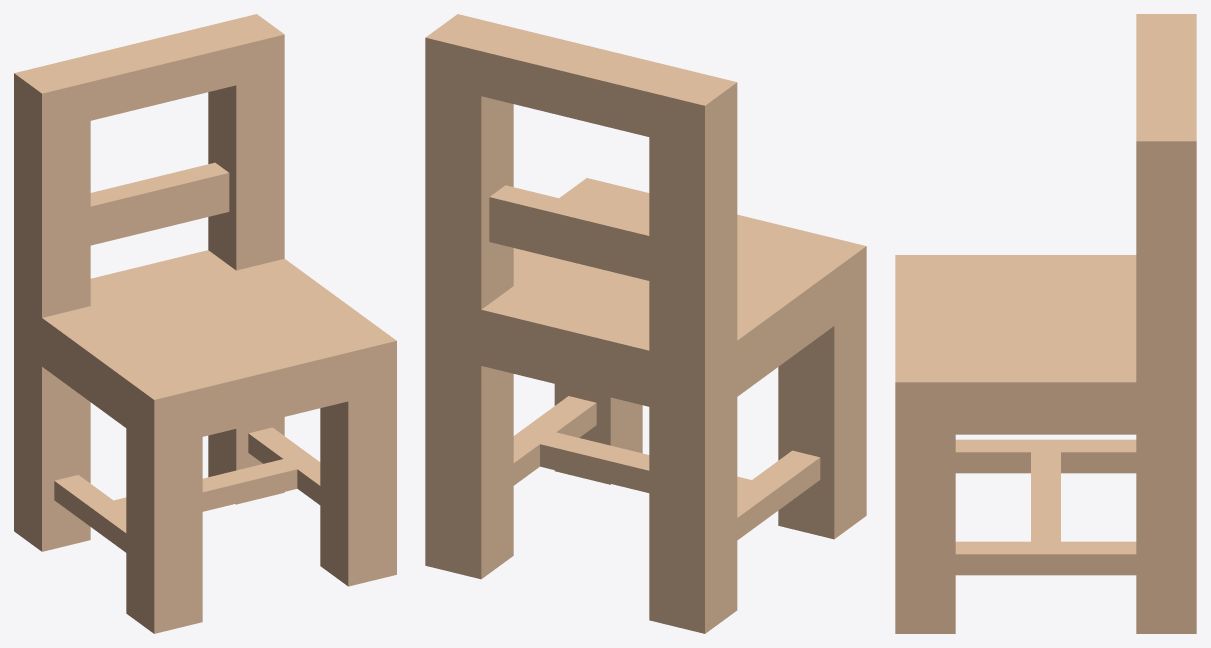
File: camp-dining-chair-v1.glb
3 views of the same model, side by side, from view 1: azimuth 30°, elevation 25°; view 2: azimuth 150°, elevation 25°; view 3: azimuth 270°, elevation 25° (orthographic). The views are drawn at different scales.
Parts seen in each view (by area): view 1: camp_dining_chair_v1_0; view 2: camp_dining_chair_v1_0; view 3: camp_dining_chair_v1_0.
Boxes of the visible parts, x1=… form: camp_dining_chair_v1_0: x1=14, y1=14, x2=396, y2=633; camp_dining_chair_v1_0: x1=425, y1=14, x2=866, y2=633; camp_dining_chair_v1_0: x1=895, y1=14, x2=1196, y2=633.
Bounding box in the file's own units: 0.56 × 1.01 × 0.56.
